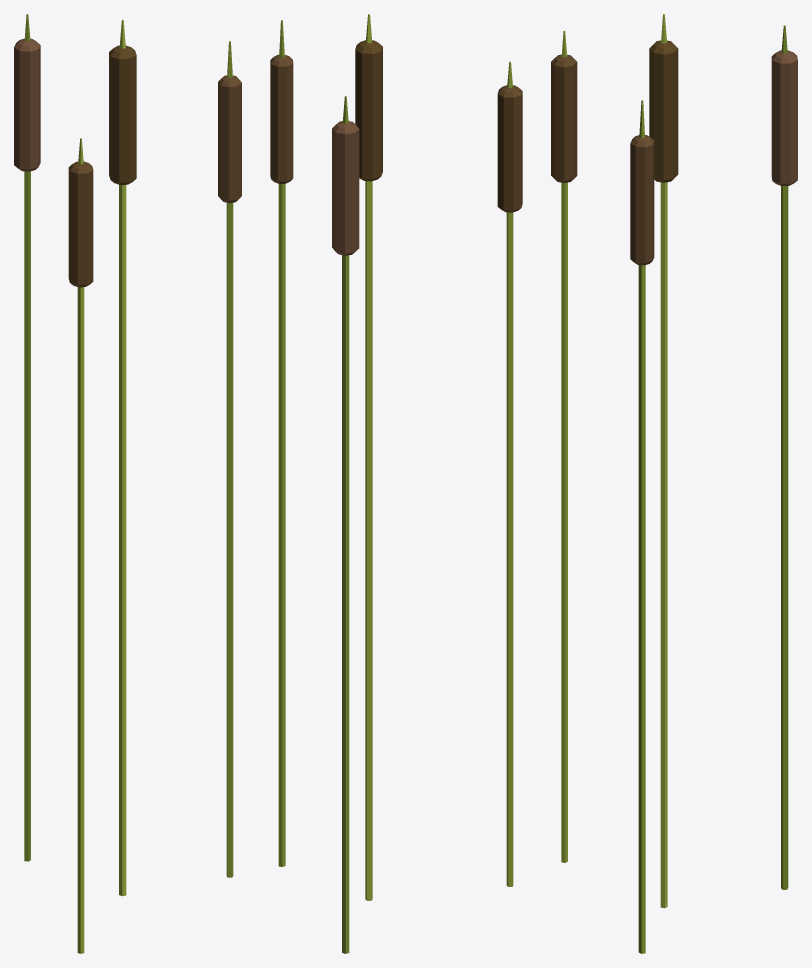
The model's file is NHP_Reedmace_LP_A1_H140cm_01.fbx.
3 renders of one model, left to right at view 1: azimuth 30°, elevation 25°; view 2: azimuth 150°, elevation 25°; view 3: azimuth 270°, elevation 25°, orthographic. The views are drawn at different scales.
Visible parts, largest first — view 1: NHP_Reedmace_LP_A1_H140cm_01_LOD0; view 2: NHP_Reedmace_LP_A1_H140cm_01_LOD0; view 3: NHP_Reedmace_LP_A1_H140cm_01_LOD0.
Boxes of the visible parts, <box> form: NHP_Reedmace_LP_A1_H140cm_01_LOD0: <box>14,14,241,953</box>; NHP_Reedmace_LP_A1_H140cm_01_LOD0: <box>270,14,522,953</box>; NHP_Reedmace_LP_A1_H140cm_01_LOD0: <box>551,14,797,953</box>.
Size of what is drawn, in the model's own units: 0.3453 by 1.38 by 0.3468.
